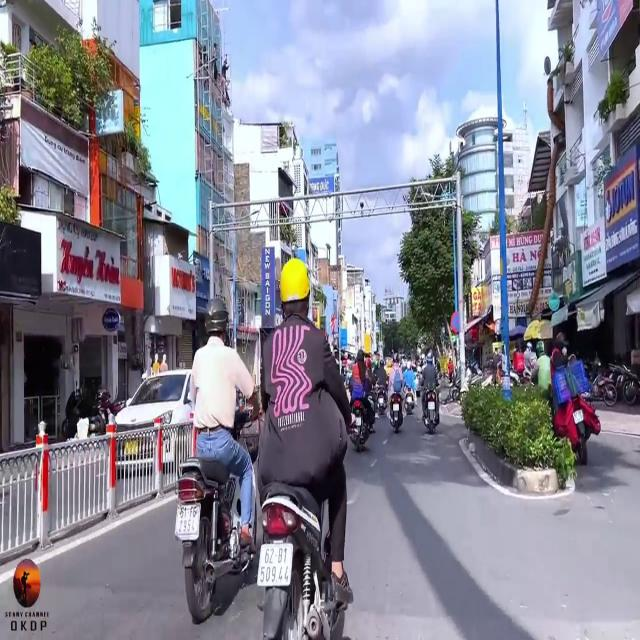bien_trang: (256, 534, 293, 592), (176, 501, 203, 538)
